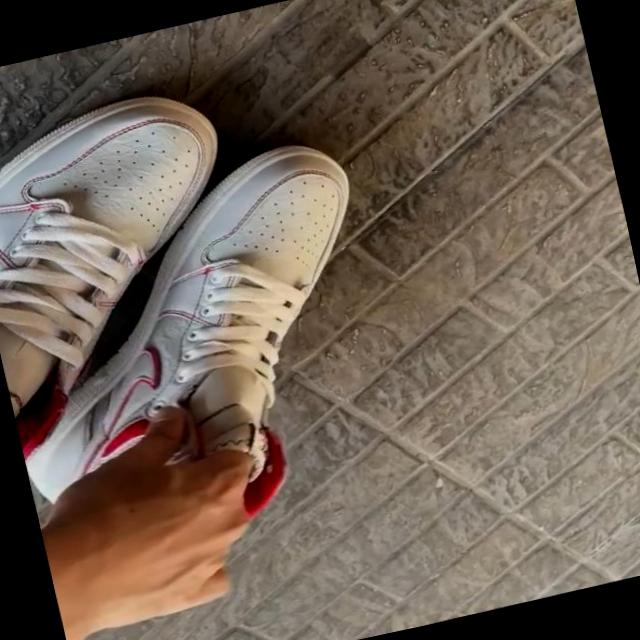nike_fake_jordan: (0, 133, 419, 546), (0, 77, 281, 464)
